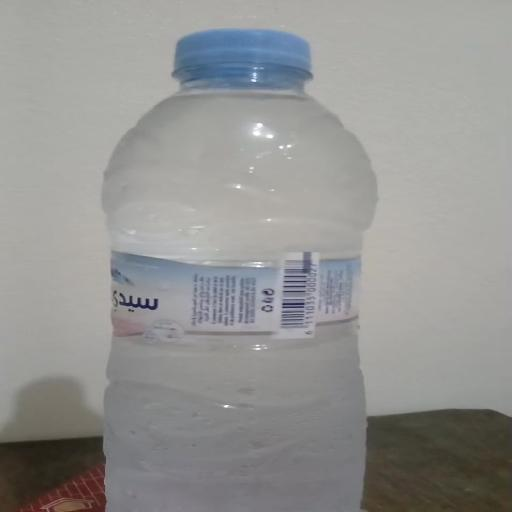bouteille conformite: (76, 25, 400, 512)
